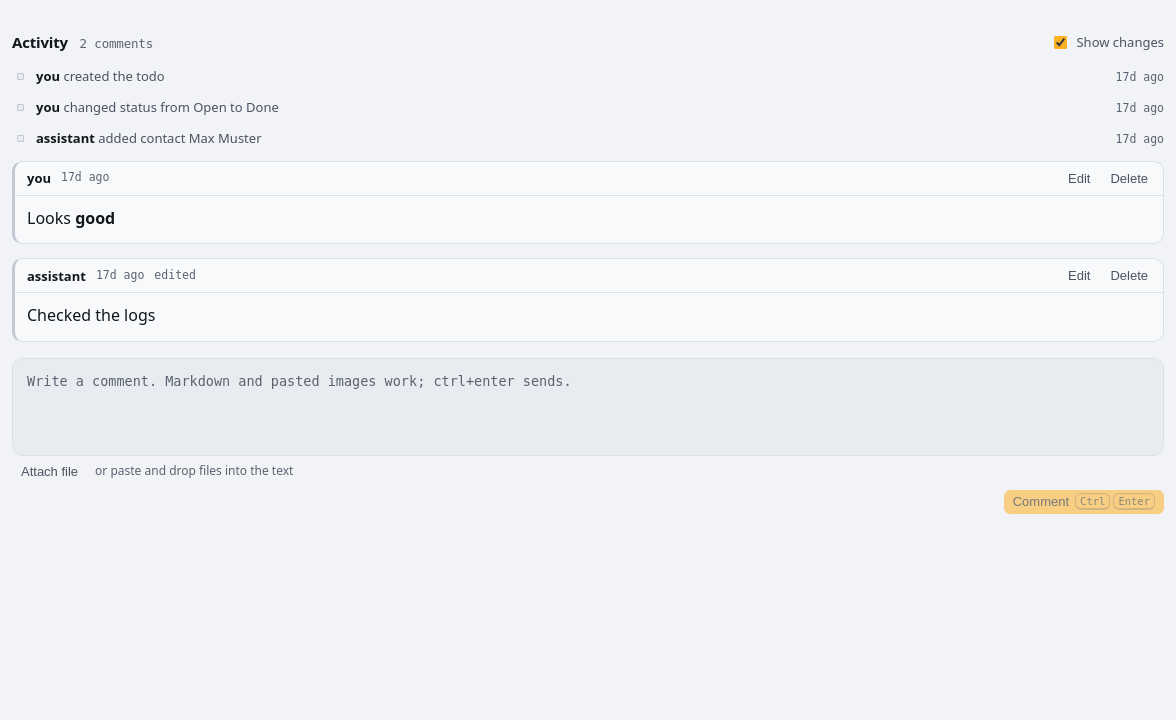
Test case: Activity thread › hides the history with Show changes off and remembers the choice
This screenshot has width=1176, height=720.
Expected: the text "created the todo" is shown, [63,67,165,85]
What coordinates should you click on to do the following:
click the checkbox labelled "Show changes"
I would click on:
 (1061, 42)
Its box is [1054,36,1068,49].
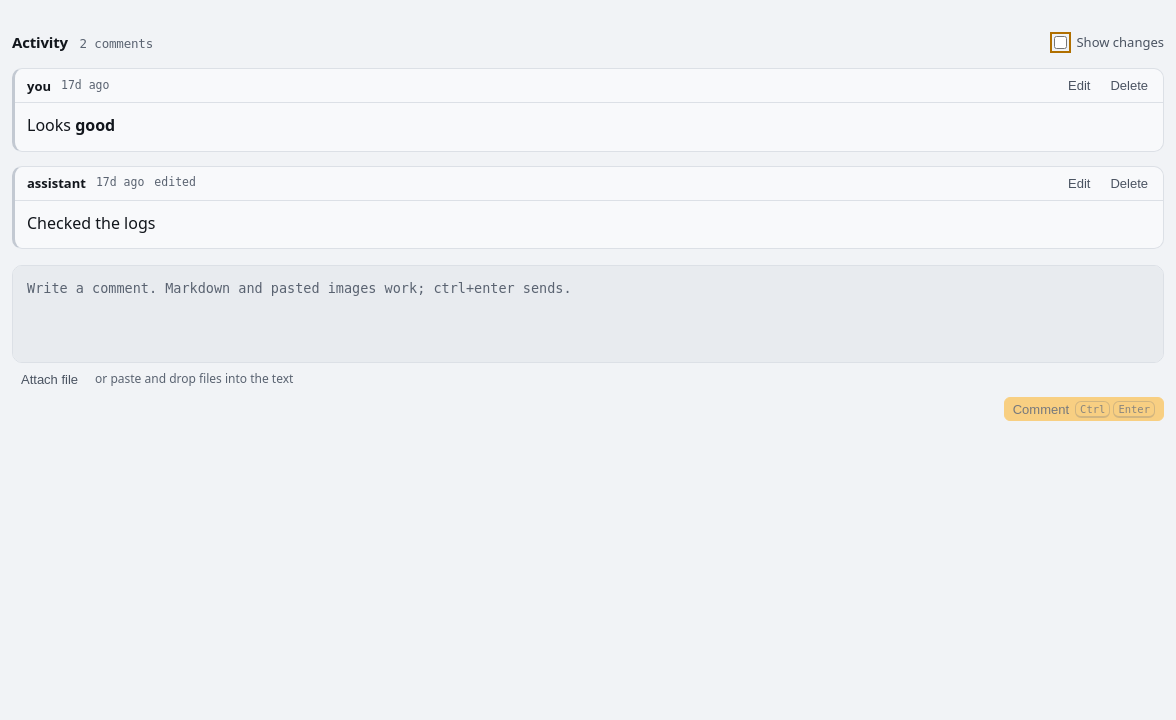
Expected: the text "Checked the logs" is shown, [27,212,155,234]
Result: the text "created the todo" is gone
